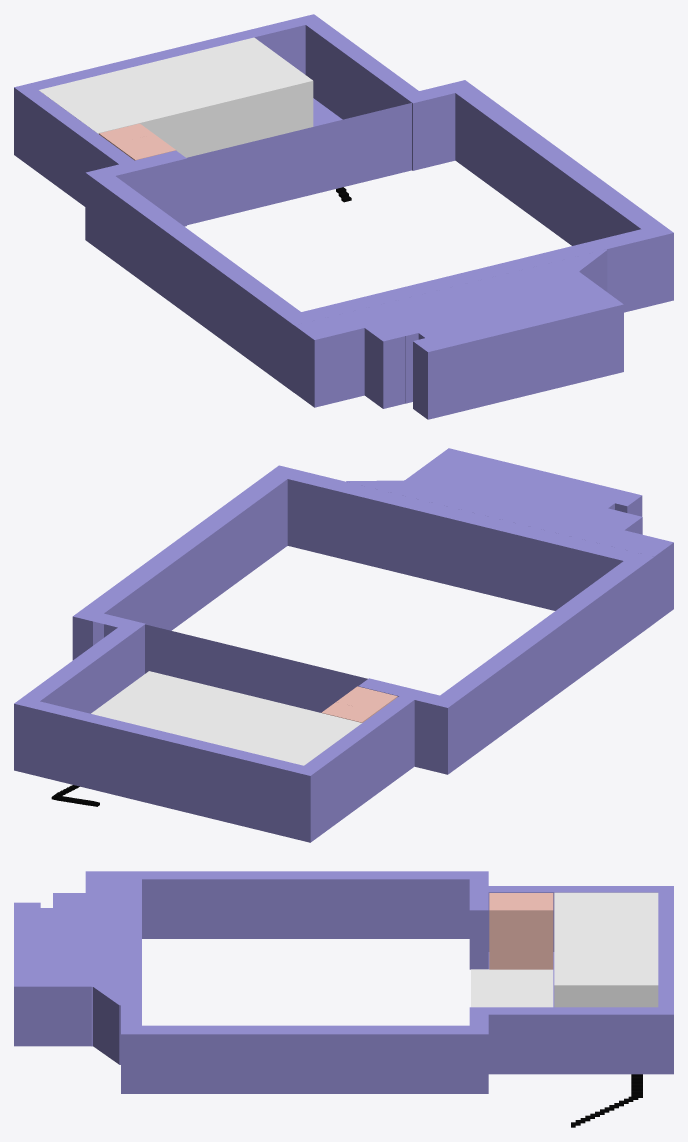
3 views of the same model, one above another, from view 1: azimuth 30°, elevation 25°; view 2: azimuth 150°, elevation 25°; view 3: azimuth 270°, elevation 25° (orthographic). The views are drawn at different scales.
Visible parts, largest first — view 1: object, 第8会議室_g_3_1, 編集室_g_3_1, 男子トイレ_g_3_1; view 2: object, 第8会議室_g_3_1, 編集室_g_3_1, 男子トイレ_g_3_1; view 3: object, 第8会議室_g_3_1, 編集室_g_3_1, 観客席_g_3_1, 女子トイレ_g_3_1, 男子トイレ_g_3_1, 階段_g_3_1.
Boxes of the visible parts, x1,y1,x2,y2 form: object: [14, 14, 673, 419]; 第8会議室_g_3_1: [110, 37, 313, 157]; 編集室_g_3_1: [39, 72, 169, 144]; 男子トイレ_g_3_1: [99, 123, 153, 160]; object: [14, 448, 673, 842]; 第8会議室_g_3_1: [91, 671, 290, 748]; 編集室_g_3_1: [233, 706, 361, 765]; 男子トイレ_g_3_1: [321, 692, 397, 722]; object: [14, 871, 673, 1093]; 第8会議室_g_3_1: [554, 923, 658, 1007]; 編集室_g_3_1: [554, 892, 658, 923]; 観客席_g_3_1: [471, 969, 553, 1007]; 女子トイレ_g_3_1: [489, 900, 527, 969]; 男子トイレ_g_3_1: [489, 893, 553, 969]; 階段_g_3_1: [571, 1074, 642, 1127].
Bounding box in the file's own units: 0.9632 × 0.3356 × 1.65.
